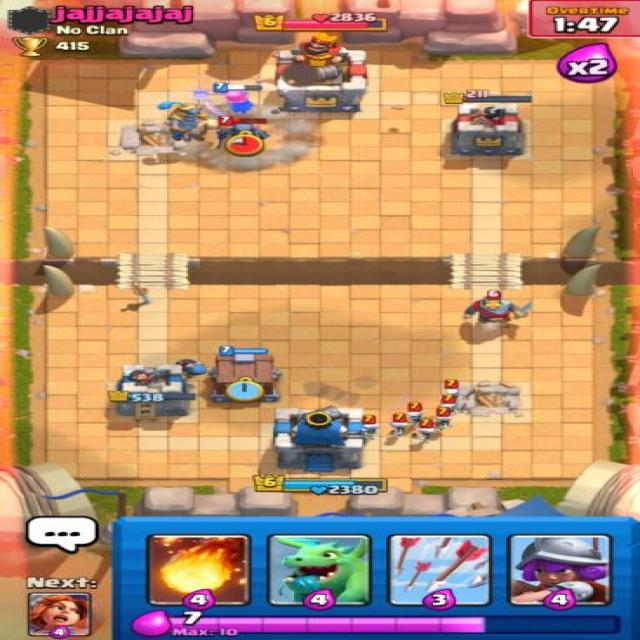Enemy-Knight: (459, 288, 536, 328)
Enemy-MiniPEKKA: (210, 116, 275, 153)
Enemy-Skeleton: (355, 412, 384, 442), (384, 411, 414, 438), (412, 417, 442, 443), (402, 400, 428, 426), (440, 379, 466, 403), (432, 406, 458, 430), (437, 394, 462, 417)
Player-GoblinCage: (207, 344, 287, 402)
Player-Prince: (150, 94, 220, 149)
Player-Valkyrie: (207, 80, 270, 121)
